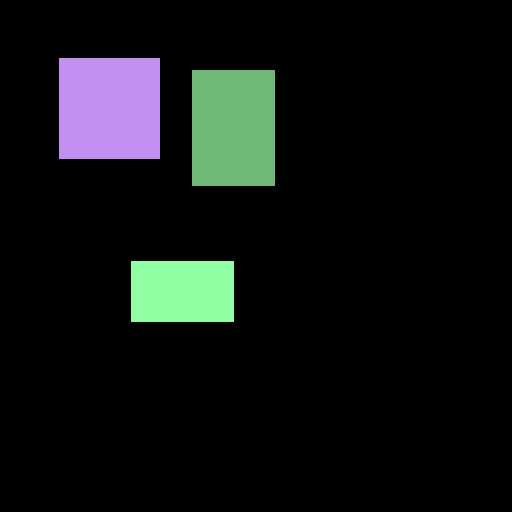rectangle: (192, 70, 274, 185), (131, 261, 233, 321)
square: (59, 58, 159, 158)
